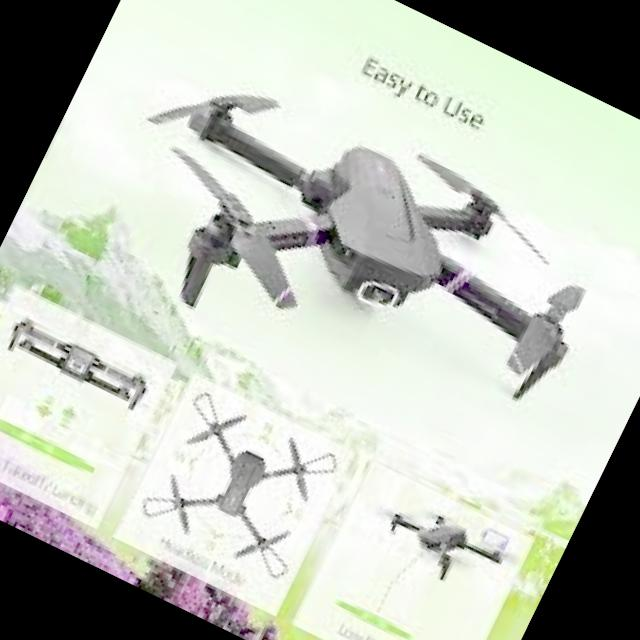drone: (64, 16, 640, 472), (124, 375, 354, 594), (353, 476, 527, 610), (0, 297, 160, 426)
